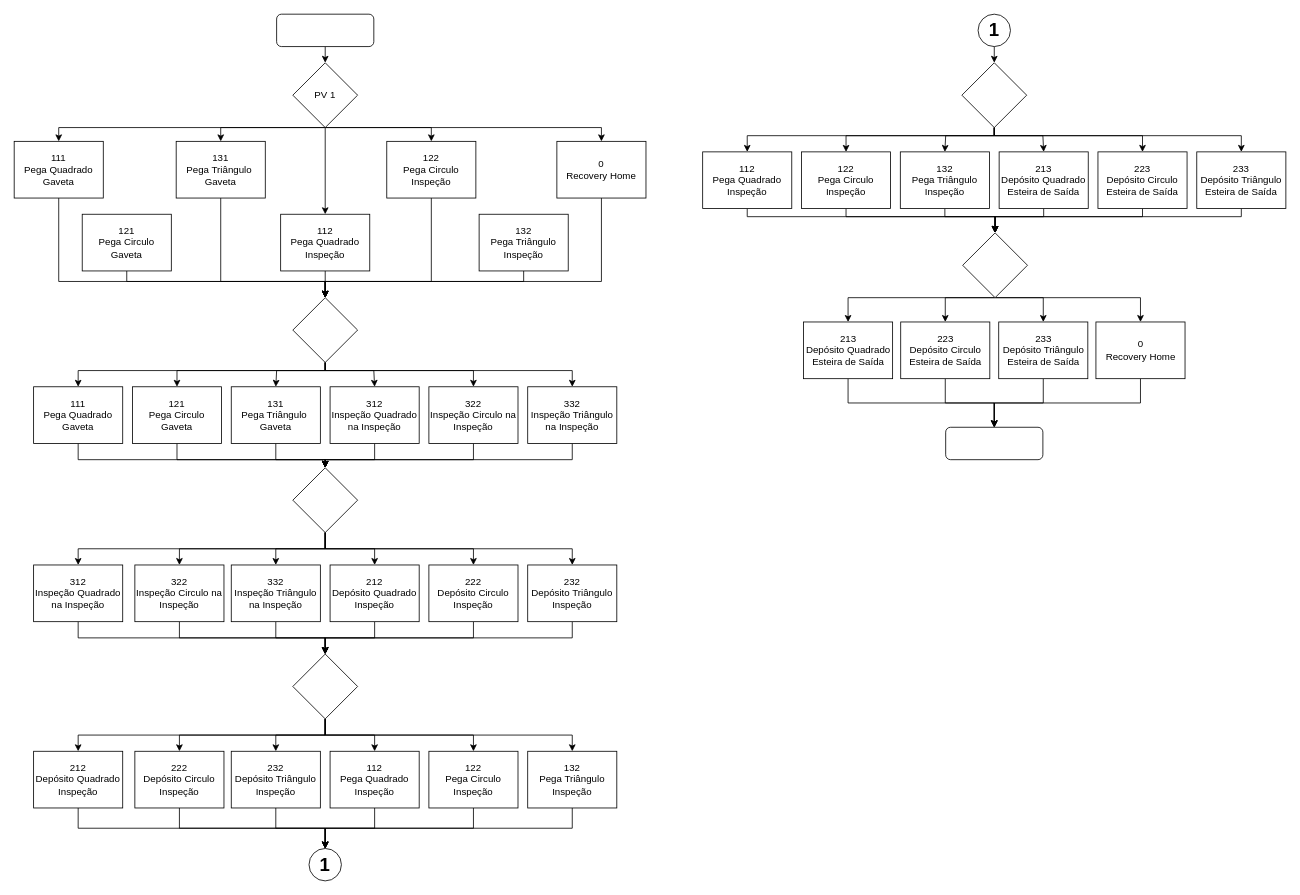
The diagram is 1300 pixels wide and 895 high, and some of its shapes have lost their labels. Here are the shapes that lost their labels. From the top down, the box of each, then its label:
(276, 13, 374, 47): MAIN
(961, 62, 1027, 128): PV 5
(962, 232, 1027, 298): PV 6
(292, 297, 358, 362): PV 2
(945, 426, 1043, 460): FIM
(292, 467, 358, 533): PV 3
(292, 653, 358, 719): PV 4
